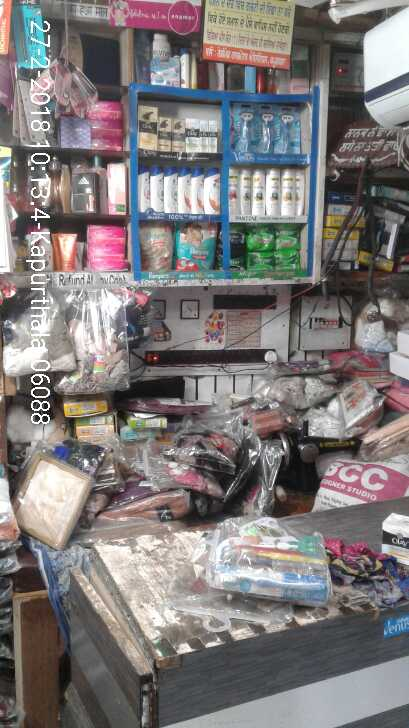venus: (278, 109, 303, 154), (236, 102, 257, 151), (256, 106, 276, 152)
